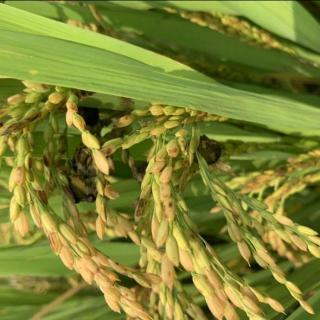Gosong-Palsu: (64, 143, 98, 205), (185, 134, 222, 166), (68, 104, 100, 130)
